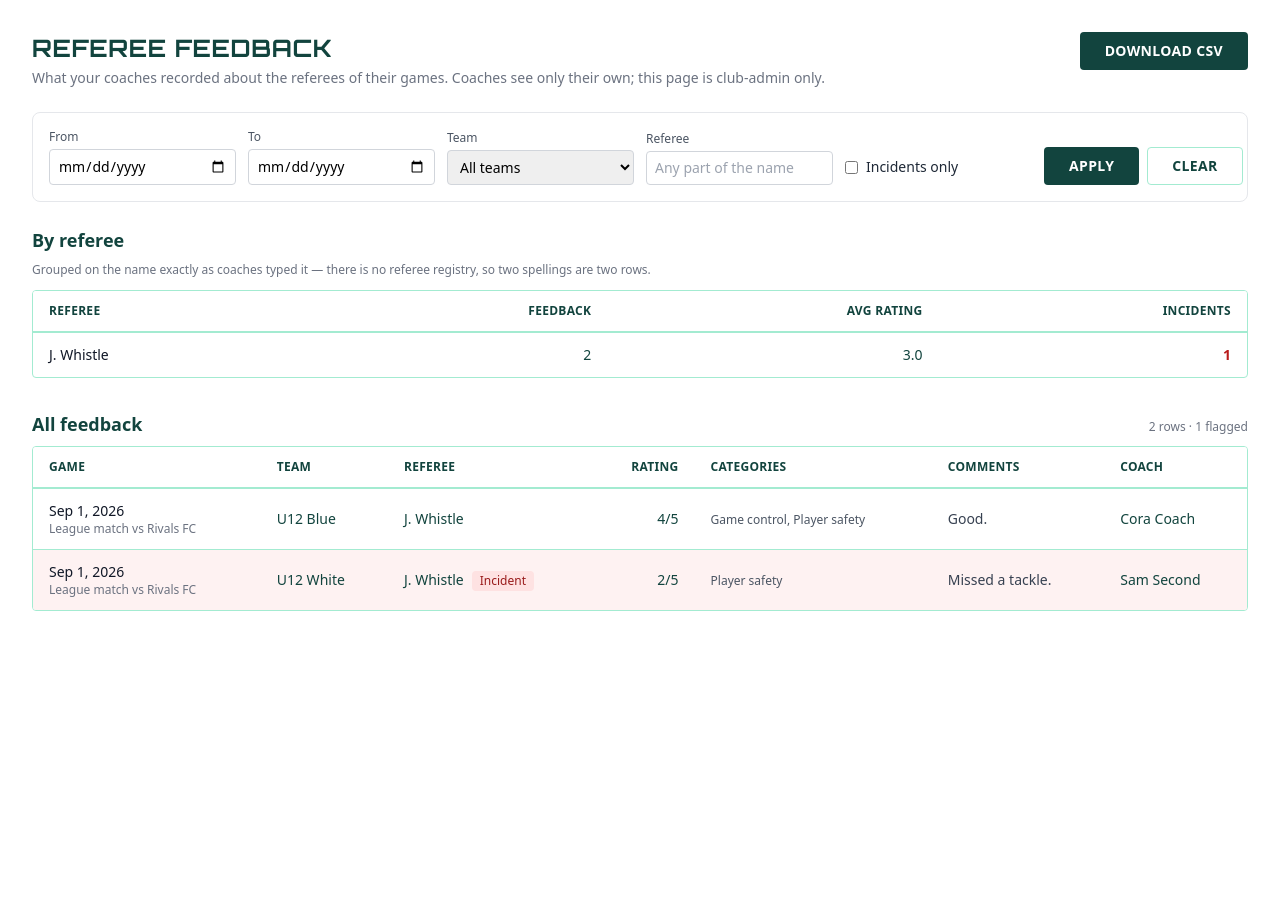
Test: RefereeFeedback (admin page) › downloads the CSV with the bearer token and reports truncation
Check: the text "Sam Second" is shown, box [1104,550,1247,610]
Click the button "Download CSV".
click(1164, 51)  # box [1080,32,1248,70]
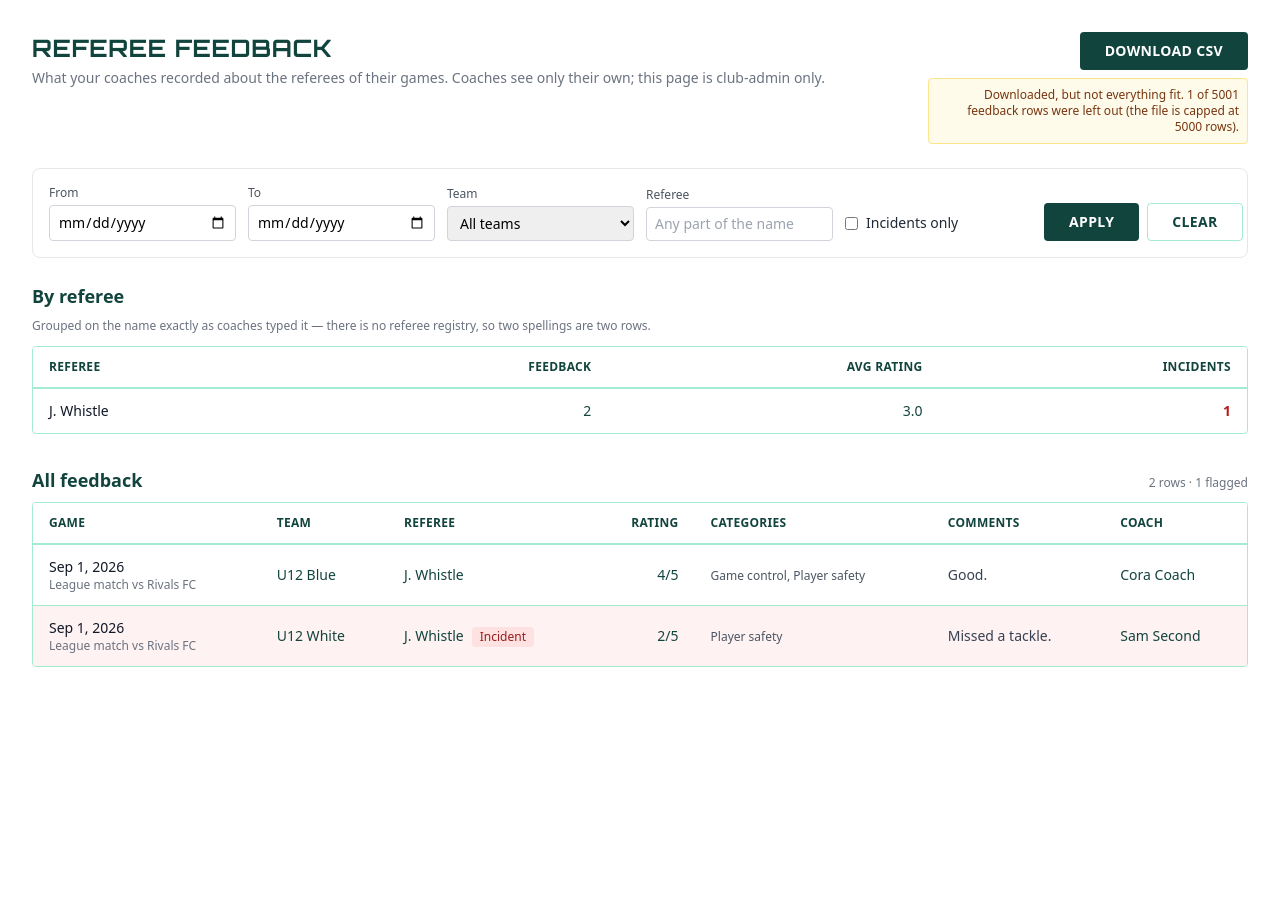
Check: the text "left out" is shown, box [967,86,1239,135]
